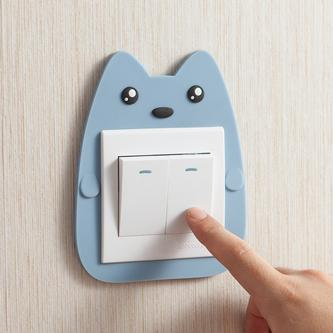switch: (115, 149, 169, 239), (165, 151, 218, 242)
